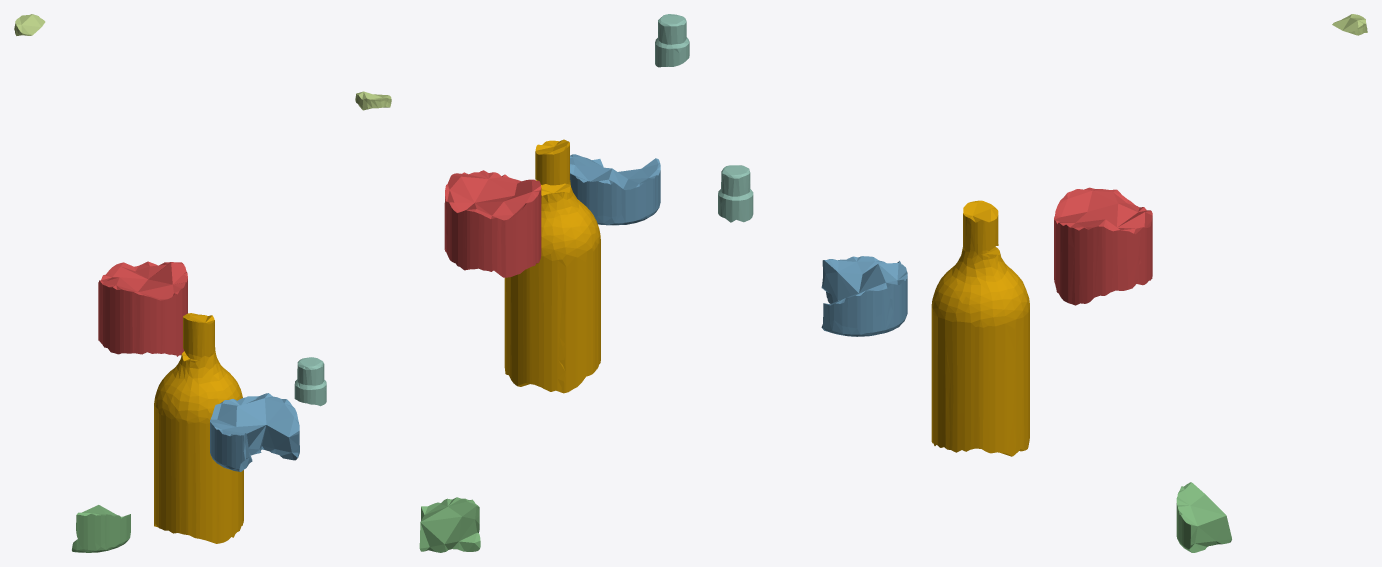
File: fractured_46_6pcs_transformed.glb
3 views of the same model, side by side, from view 1: azimuth 30°, elevation 25°; view 2: azimuth 150°, elevation 25°; view 3: azimuth 270°, elevation 25° (orthographic). The views are drawn at different scales.
Parts seen in each view (by area): view 1: piece_0.obj, piece_1.obj, piece_2.obj, piece_3.obj, piece_4.obj, piece_5.obj; view 2: piece_0.obj, piece_1.obj, piece_2.obj, piece_3.obj, piece_4.obj, piece_5.obj; view 3: piece_0.obj, piece_1.obj, piece_2.obj, piece_3.obj, piece_4.obj.
Boxes of the visible parts, <box> form: piece_0.obj: <box>154,313,243,543</box>; piece_1.obj: <box>98,261,187,356</box>; piece_2.obj: <box>210,393,299,471</box>; piece_3.obj: <box>72,505,130,552</box>; piece_4.obj: <box>294,357,326,406</box>; piece_5.obj: <box>14,14,45,35</box>; piece_0.obj: <box>504,139,600,393</box>; piece_1.obj: <box>444,170,541,277</box>; piece_2.obj: <box>570,154,660,225</box>; piece_3.obj: <box>419,497,480,552</box>; piece_4.obj: <box>655,14,689,67</box>; piece_5.obj: <box>355,91,391,110</box>; piece_0.obj: <box>931,200,1029,456</box>; piece_1.obj: <box>1054,187,1152,305</box>; piece_2.obj: <box>821,256,907,336</box>; piece_3.obj: <box>1176,482,1231,552</box>; piece_4.obj: <box>718,165,753,222</box>.
Bounding box in the file's own units: 0.2415 × 1.41 × 1.59.
